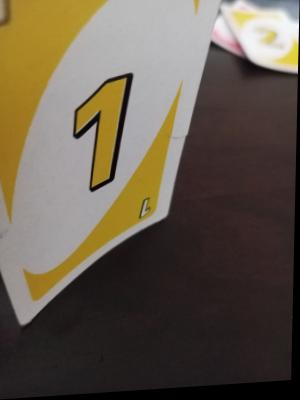num_1: (138, 187, 159, 227)
yellow: (31, 25, 139, 205)
